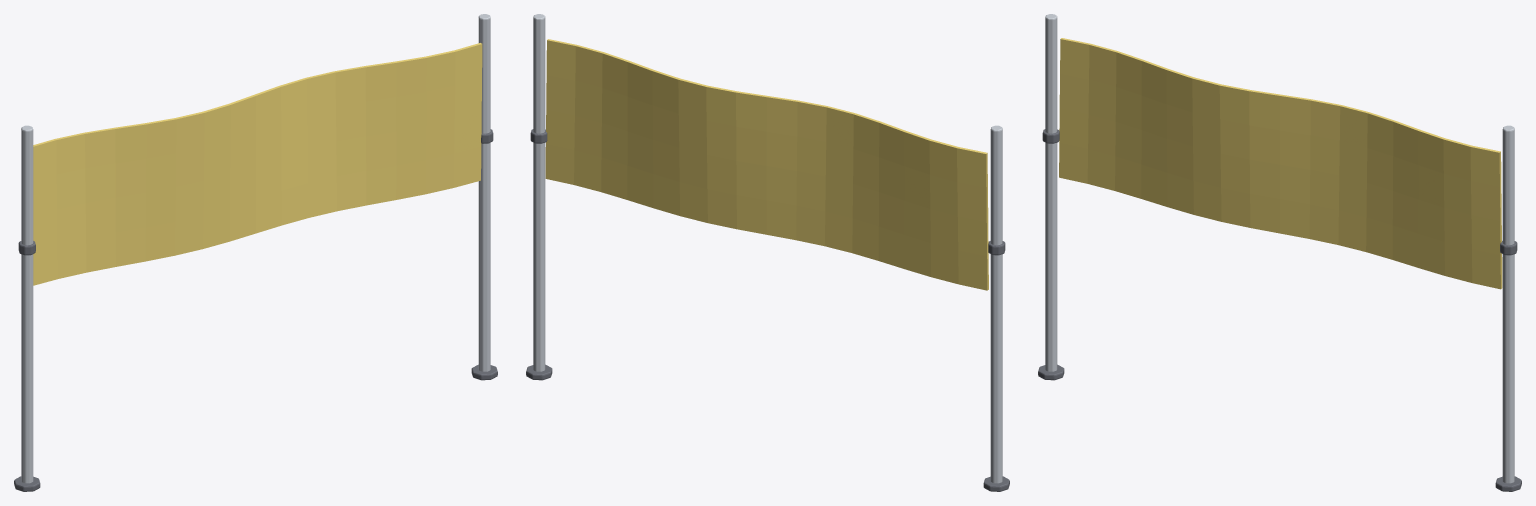
The model's file is SponsorBanner.fbx.
3 renders of one model, left to right at view 1: azimuth 30°, elevation 25°; view 2: azimuth 150°, elevation 25°; view 3: azimuth 330°, elevation 25°, orthographic.
Visible parts, largest first — view 1: BannerCloth, SponsorBanner_PoleL, SponsorBanner_PoleR; view 2: BannerCloth, SponsorBanner_PoleL, SponsorBanner_PoleR; view 3: BannerCloth, SponsorBanner_PoleL, SponsorBanner_PoleR.
Part boxes in pixels (left/top/right/bottom): BannerCloth: left=33, top=43, right=482, bottom=285; SponsorBanner_PoleL: left=14, top=125, right=40, bottom=491; SponsorBanner_PoleR: left=471, top=14, right=497, bottom=380; BannerCloth: left=545, top=39, right=988, bottom=290; SponsorBanner_PoleL: left=983, top=125, right=1009, bottom=491; SponsorBanner_PoleR: left=526, top=14, right=552, bottom=380; BannerCloth: left=1059, top=38, right=1502, bottom=289; SponsorBanner_PoleL: left=1038, top=14, right=1064, bottom=380; SponsorBanner_PoleR: left=1495, top=125, right=1521, bottom=491.
Bounding box in the file's own units: 841 × 600 × 40.9.
